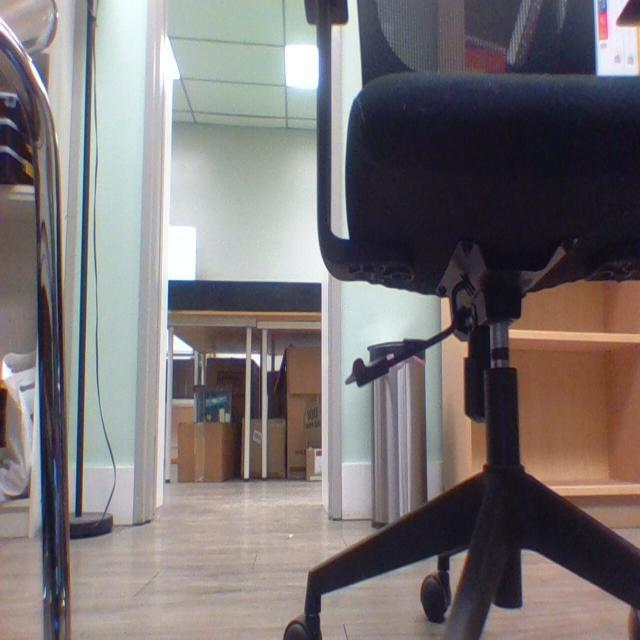chair: (288, 4, 640, 640)
